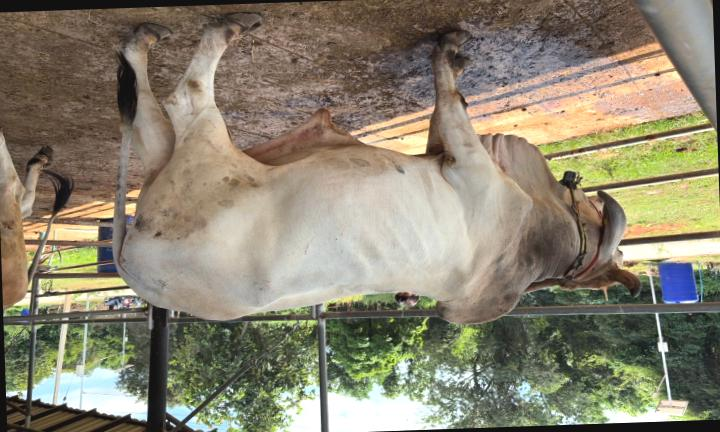Brahman: (113, 13, 640, 324)
